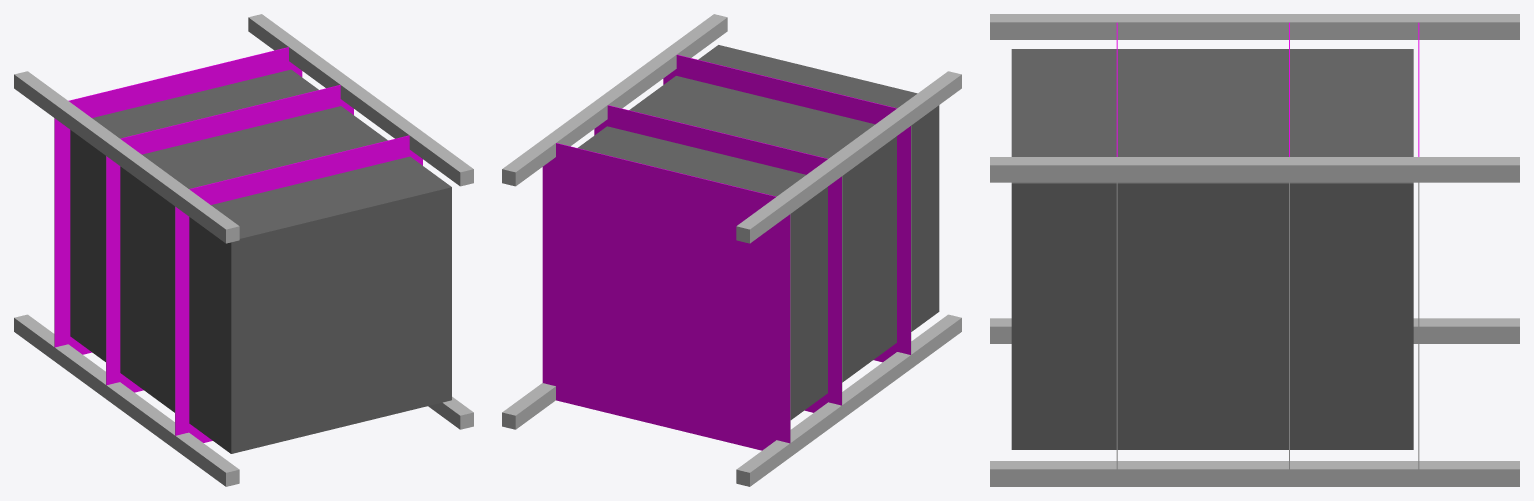
Rendered from loadedshelf.glb.
The picture shows the model from 3 angles, left to right: view 1: azimuth 30°, elevation 25°; view 2: azimuth 150°, elevation 25°; view 3: azimuth 270°, elevation 25°; orthographic projection. The views are drawn at different scales.
Visible parts, largest first — view 1: Obj_000001, mesh3d_018, mesh3d_012, mesh3d_006, mesh3d_040, mesh3d_028, mesh3d_039, mesh3d_033, mesh3d_034, mesh3d_027; view 2: mesh3d_017, Obj_000001, mesh3d_011, mesh3d_005, mesh3d_040, mesh3d_028, mesh3d_039, mesh3d_033, mesh3d_034, mesh3d_027, mesh3d_022, mesh3d_021; view 3: Obj_000001, mesh3d_032, mesh3d_020, mesh3d_038, mesh3d_039, mesh3d_033, mesh3d_021, mesh3d_026, mesh3d_027, mesh3d_014, mesh3d_002.
Part boxes in pixels (<box>): Obj_000001: <box>70,69,451,453</box>; mesh3d_018: <box>54,47,302,354</box>; mesh3d_012: <box>106,85,353,392</box>; mesh3d_006: <box>175,135,422,442</box>; mesh3d_040: <box>14,74,225,243</box>; mesh3d_028: <box>14,318,225,486</box>; mesh3d_039: <box>14,71,238,229</box>; mesh3d_033: <box>249,14,473,172</box>; mesh3d_034: <box>248,17,460,185</box>; mesh3d_027: <box>14,314,239,472</box>; mesh3d_017: <box>542,143,790,450</box>; Obj_000001: <box>578,45,939,419</box>; mesh3d_011: <box>594,105,841,412</box>; mesh3d_005: <box>663,55,910,362</box>; mesh3d_040: <box>750,74,961,243</box>; mesh3d_028: <box>750,318,961,486</box>; mesh3d_039: <box>737,71,961,229</box>; mesh3d_033: <box>502,14,726,172</box>; mesh3d_034: <box>515,17,727,185</box>; mesh3d_027: <box>736,314,961,472</box>; mesh3d_022: <box>515,386,555,429</box>; mesh3d_021: <box>502,383,555,415</box>; Obj_000001: <box>1011,49,1413,449</box>; mesh3d_032: <box>990,165,1519,182</box>; mesh3d_020: <box>990,469,1519,486</box>; mesh3d_038: <box>990,22,1519,39</box>; mesh3d_039: <box>990,14,1519,22</box>; mesh3d_033: <box>990,157,1519,165</box>; mesh3d_021: <box>990,461,1519,469</box>; mesh3d_026: <box>990,326,1519,343</box>; mesh3d_027: <box>990,318,1519,326</box>; mesh3d_014: <box>1418,182,1419,469</box>; mesh3d_002: <box>1116,182,1117,469</box>.
Size of the model in its own units: 11.96 by 11.87 by 17.71.
